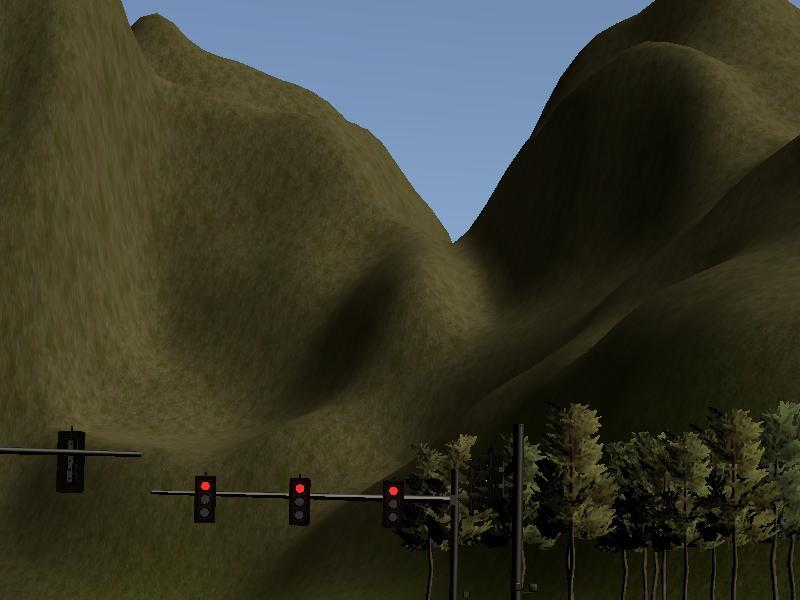Red: (382, 481, 402, 526), (289, 479, 309, 524), (194, 477, 214, 522)
